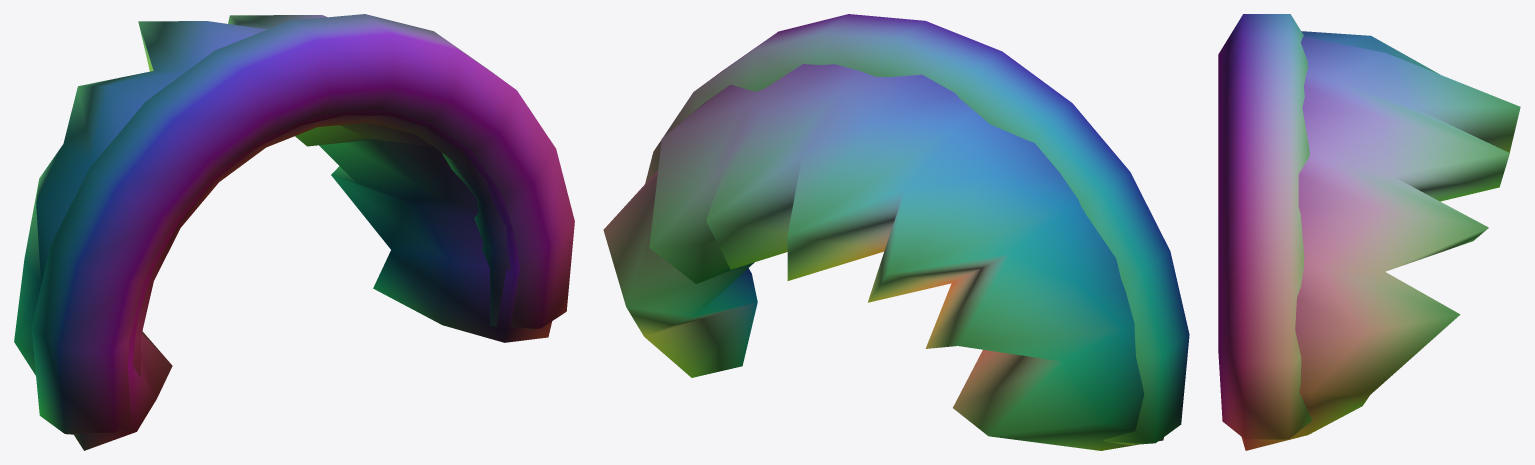
Rendered from SM_Mon_Bonegorger_Att_BellLip.fbx.
3 views of the same model, side by side, from view 1: azimuth 30°, elevation 25°; view 2: azimuth 150°, elevation 25°; view 3: azimuth 270°, elevation 25° (orthographic). The views are drawn at different scales.
Visible parts, largest first — view 1: SM_Mon_Bonegorger_Att_BellLip; view 2: SM_Mon_Bonegorger_Att_BellLip; view 3: SM_Mon_Bonegorger_Att_BellLip.
Part boxes in pixels (x1,y1,x2,y2): SM_Mon_Bonegorger_Att_BellLip: (14,14,574,450); SM_Mon_Bonegorger_Att_BellLip: (603,14,1189,450); SM_Mon_Bonegorger_Att_BellLip: (1218,14,1520,450).
Bounding box in the file's own units: 0.2601 × 0.171 × 0.1491.
